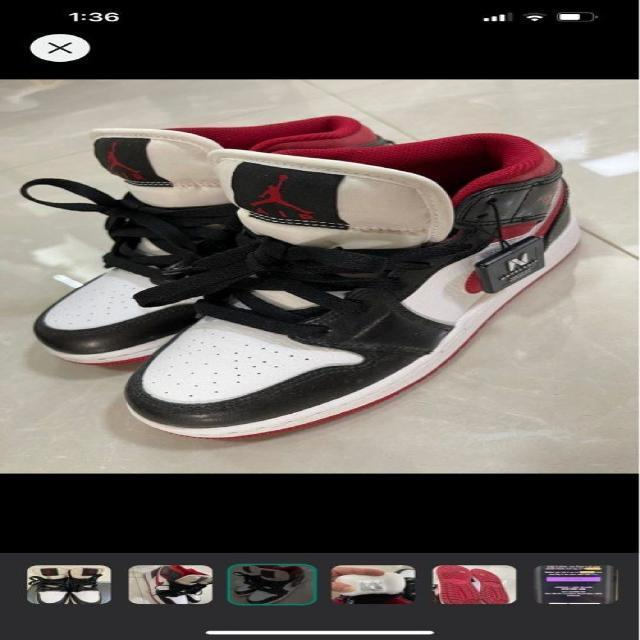nike fake jordan 1: (118, 134, 640, 438), (32, 112, 397, 369)
